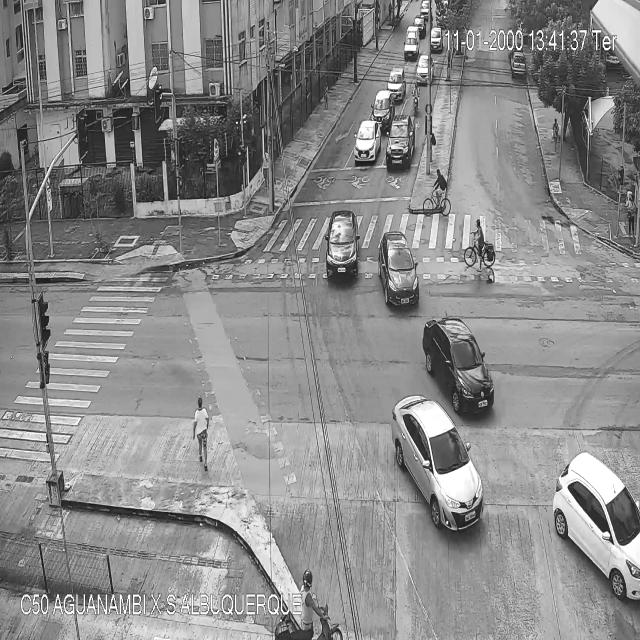Car: (553, 452, 640, 603), (392, 397, 486, 532), (423, 314, 496, 414), (378, 230, 420, 308), (325, 211, 360, 278), (387, 117, 413, 168), (355, 120, 382, 163), (371, 89, 393, 131), (403, 25, 420, 63), (388, 68, 406, 100), (416, 53, 434, 84), (428, 26, 442, 53), (511, 53, 525, 76), (414, 16, 428, 38)
Motorcycle: (274, 572, 341, 640), (412, 83, 421, 115)
